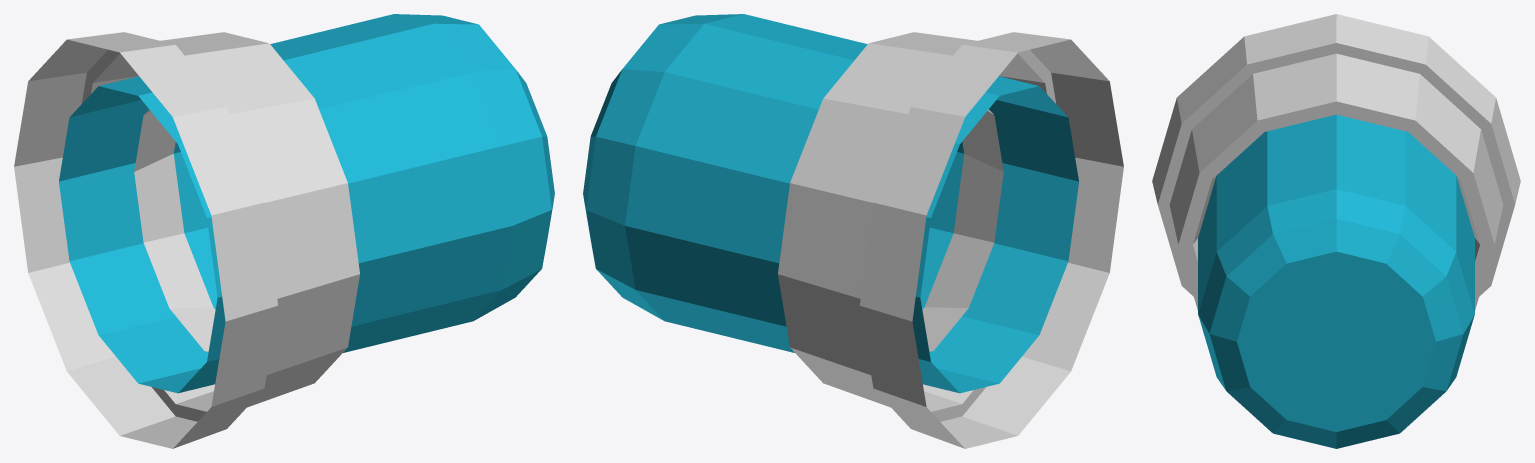
The model's file is cage_indicator_light.fbx.
3 renders of one model, left to right at view 1: azimuth 30°, elevation 25°; view 2: azimuth 150°, elevation 25°; view 3: azimuth 270°, elevation 25°, orthographic. The views are drawn at different scales.
Parts seen in each view (by area): view 1: indicator light; view 2: indicator light; view 3: indicator light.
Part boxes in pixels (x1,y1,x2,y2): indicator light: (14, 14, 554, 448); indicator light: (583, 14, 1123, 448); indicator light: (1152, 14, 1520, 448).
Bounding box in the file's own units: 3.61 × 3.49 × 3.49.
